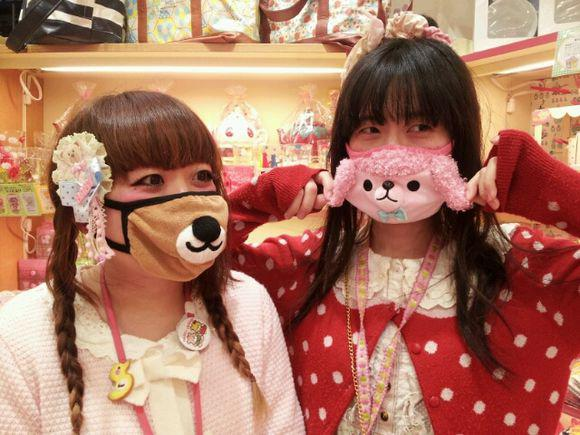OK: (117, 147, 240, 270), (347, 105, 462, 220)
